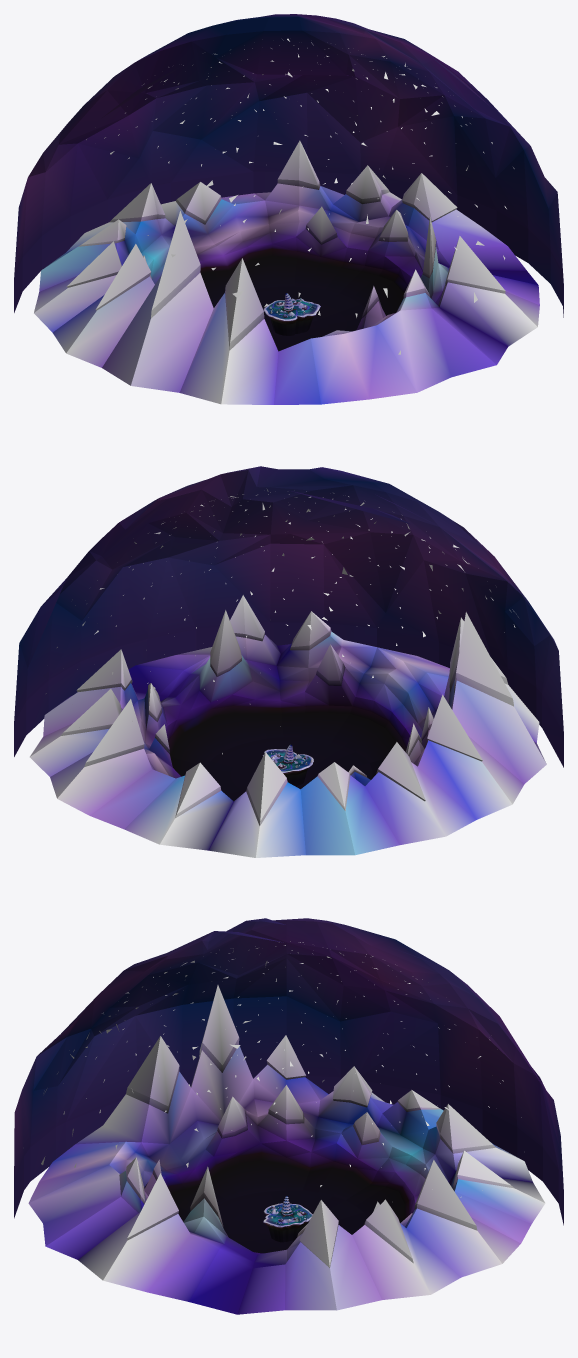
File: WorldNight.fbx
The picture shows the model from 3 angles, top to bottom: view 1: azimuth 30°, elevation 25°; view 2: azimuth 150°, elevation 25°; view 3: azimuth 270°, elevation 25°; orthographic projection.
Parts seen in each view (by area): view 1: World; view 2: World; view 3: World.
Boxes of the visible parts, <box> form: World: <box>14,14,563,404</box>; World: <box>14,466,563,857</box>; World: <box>14,918,563,1314</box>.
Bounding box in the file's own units: 1043550 × 608079 × 1034727.
